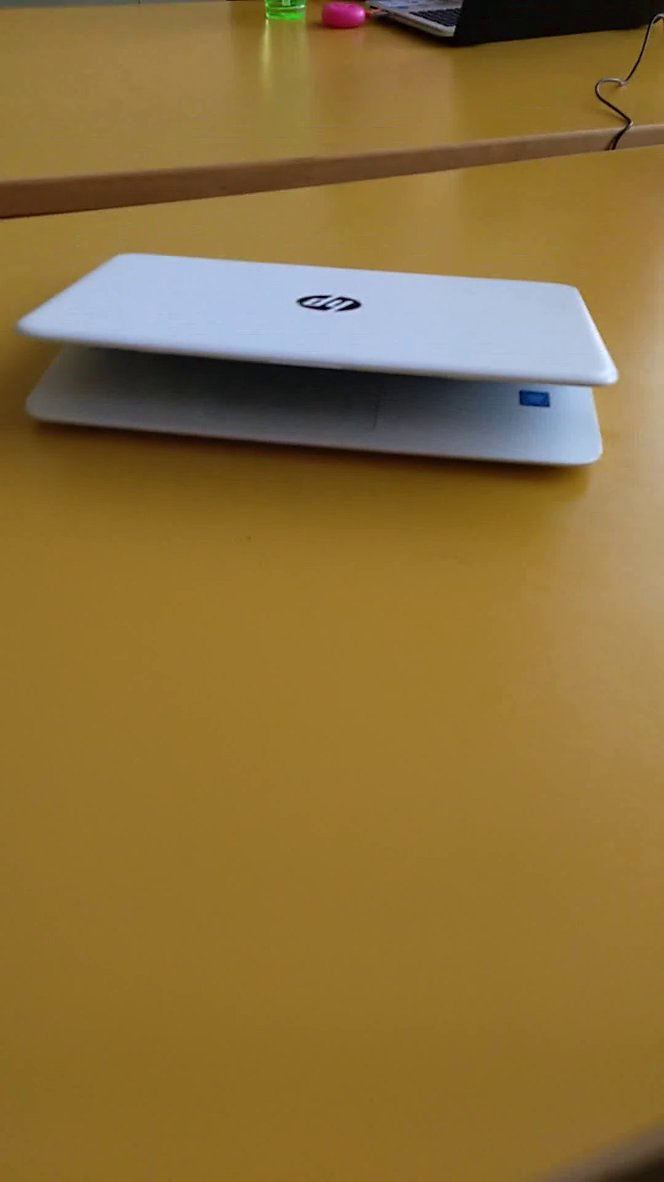laptop: (5, 225, 647, 517)
